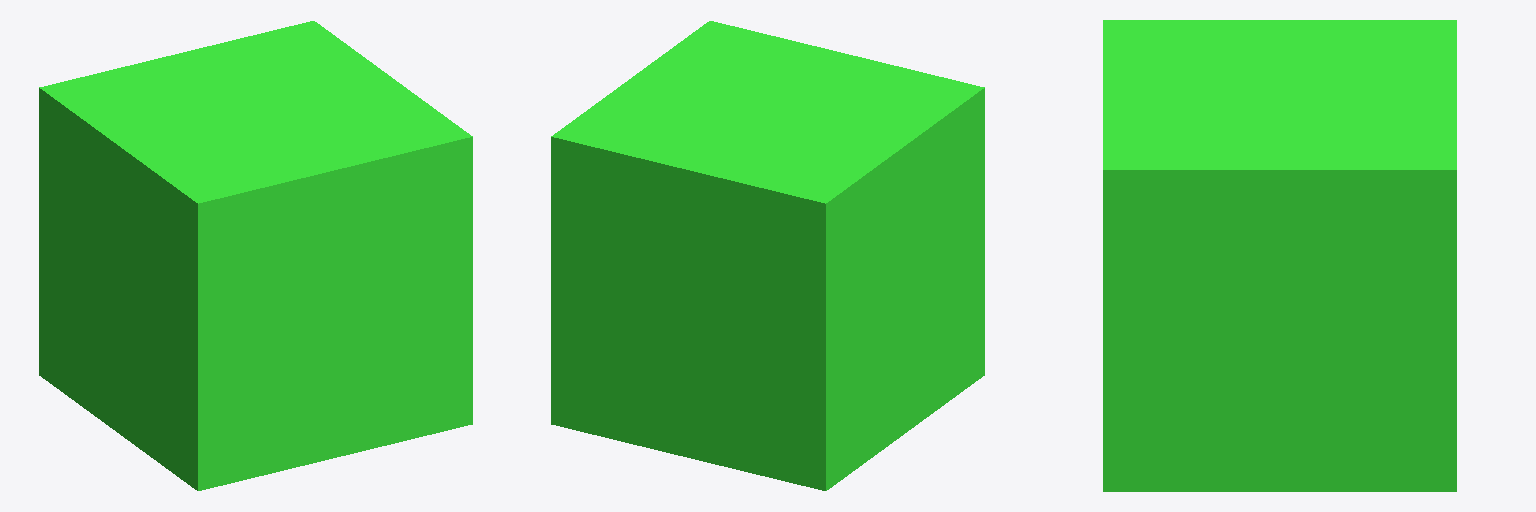
URDF robot description (CubeLifeSize_v2_60_60):
<robot name="CubeLifeSize_v2_60_60">
	<link name="object">
		<visual>
			<origin rpy="0.0 0.0 0.0" xyz="0.0 0.0 -0.6" />
			<geometry>
				<mesh filename="CubeLifeSize_v2_60_60/CubeLifeSize_v2_60_60.obj" scale="0.02 0.02 0.02" />
			</geometry>
			<material name="texture">
				<color rgba="0.3 1.0 0.3 1.0" />
			</material>
		</visual>
		<collision>
			<origin rpy="0.0 0.0 0.0" xyz="0.0 0.0 -0.6" />
			<geometry>
				<mesh filename="CubeLifeSize_v2_60_60/CubeLifeSize_v2_60_60_vhacd.obj" scale="0.02 0.02 0.02" />
			</geometry>
		</collision>
		<inertial>
			<mass value="0.020" />
			<inertia ixx="1.0" ixy="0.0" ixz="0.0" iyy="1.0" iyz="0.0" izz="1.0" />
		</inertial>
	</link>
</robot>

--- Facts derived from the render (not from the file) ---
The picture shows the robot from 3 angles, left to right: view 1: azimuth 30°, elevation 25°; view 2: azimuth 150°, elevation 25°; view 3: azimuth 270°, elevation 25°; orthographic projection.
Robot: CubeLifeSize_v2_60_60 — 1 links, 0 joints (none); root link object; default pose: all joints at 0.
Visible links, largest first — view 1: object; view 2: object; view 3: object.
Link boxes in pixels (x1,y1,x2,y2): object: (39,21,472,490); object: (551,21,984,490); object: (1103,20,1456,491).
Size in the robot's own frame: 1.2 by 1.2 by 1.2 metres.
Meshes: 1 distinct files referenced, 1 mesh visuals loaded (1 OBJ).